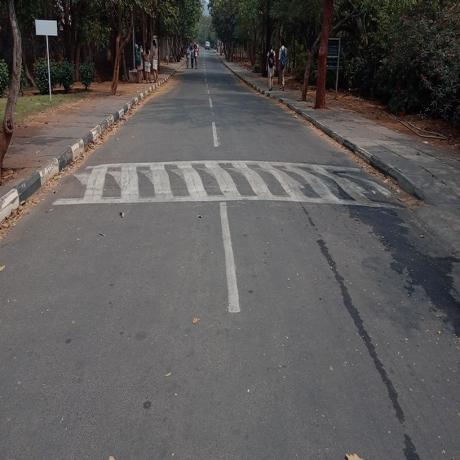Speed Bump: (48, 163, 410, 210)
